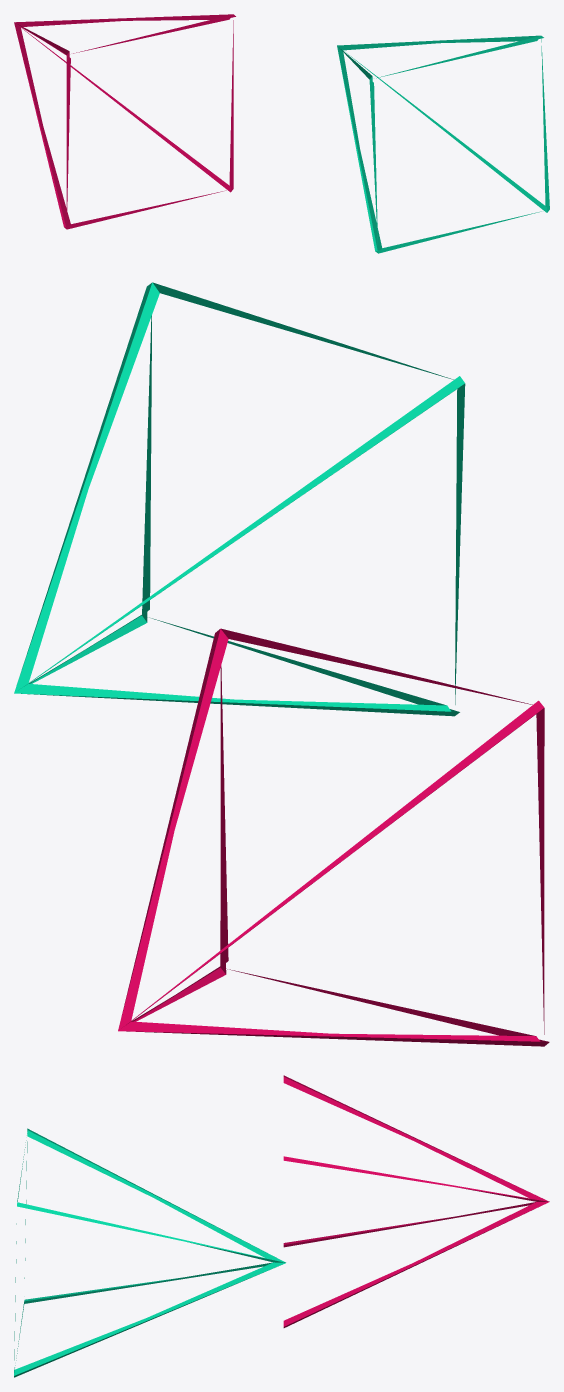
The model's file is vggt_scene.glb.
3 views of the same model, one above another, from view 1: azimuth 30°, elevation 25°; view 2: azimuth 150°, elevation 25°; view 3: azimuth 270°, elevation 25° (orthographic). The views are drawn at different scales.
Visible parts, largest first — view 1: world; view 2: world; view 3: world.
Part boxes in pixels (x1,y1,x2,y2): world: (14, 14, 549, 253); world: (14, 282, 549, 1046); world: (14, 1075, 549, 1377).
Size of the model in its own units: 0.1458 by 0.0858 by 0.199.
